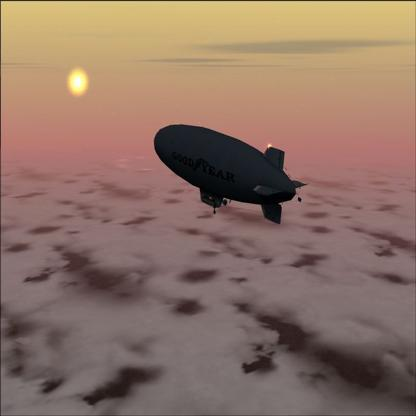Airship: (154, 121, 311, 232)
